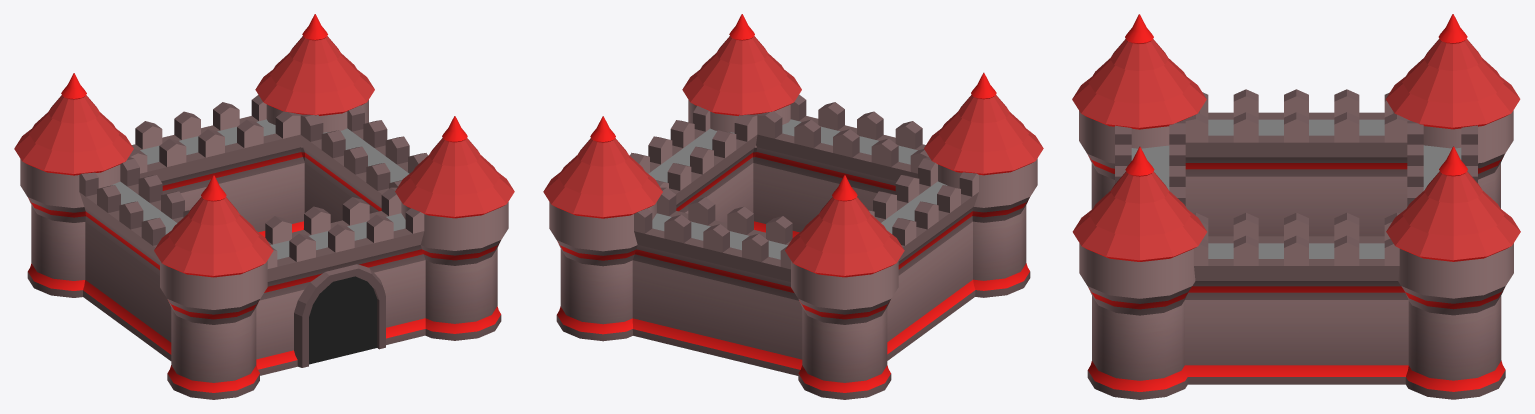
File: castle_B_enemy.fbx
The picture shows the model from 3 angles, left to right: view 1: azimuth 30°, elevation 25°; view 2: azimuth 150°, elevation 25°; view 3: azimuth 270°, elevation 25°; orthographic projection. The views are drawn at different scales.
Parts seen in each view (by area): view 1: Castle_B_enemy; view 2: Castle_B_enemy; view 3: Castle_B_enemy.
Part boxes in pixels (<box>): Castle_B_enemy: <box>14,14,514,399</box>; Castle_B_enemy: <box>543,14,1043,399</box>; Castle_B_enemy: <box>1072,14,1520,399</box>.
Bounding box in the file's own units: 13.2 × 7.49 × 13.2.
